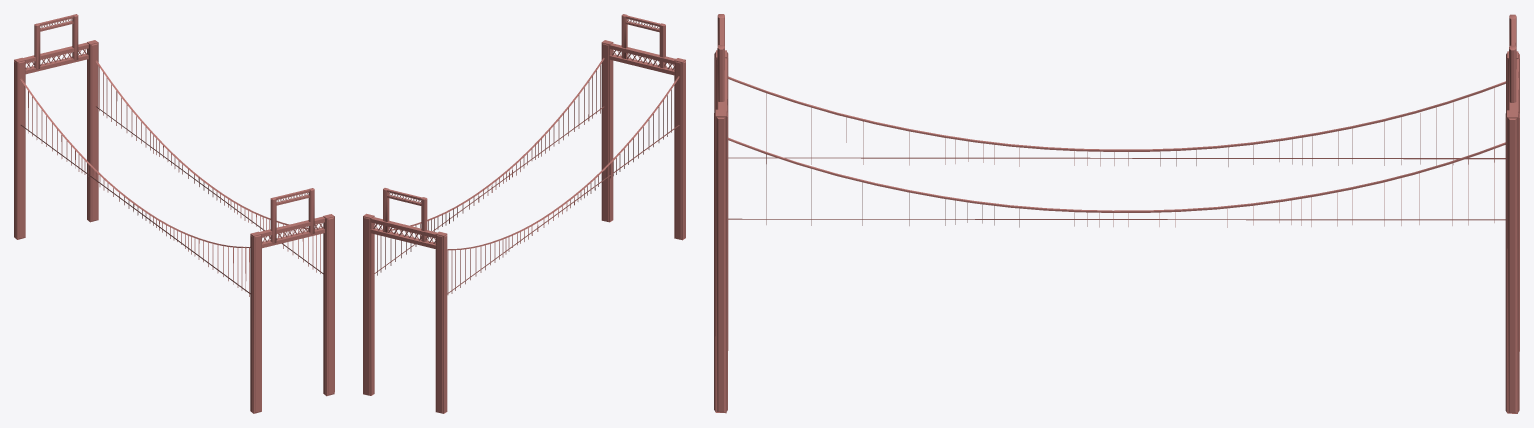
The model's file is 078_Extrude_001.gltf.
The picture shows the model from 3 angles, left to right: view 1: azimuth 30°, elevation 25°; view 2: azimuth 150°, elevation 25°; view 3: azimuth 270°, elevation 25°; orthographic projection. The views are drawn at different scales.
Parts seen in each view (by area): view 1: Extrude_001; view 2: Extrude_001; view 3: Extrude_001.
Boxes of the visible parts, <box> form: Extrude_001: <box>14,14,334,413</box>; Extrude_001: <box>363,14,685,413</box>; Extrude_001: <box>714,14,1519,413</box>.
Bounding box in the file's own units: 666 × 1594 × 3335.
1 material, 1 textured.
